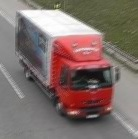truck: (17, 9, 121, 120)
